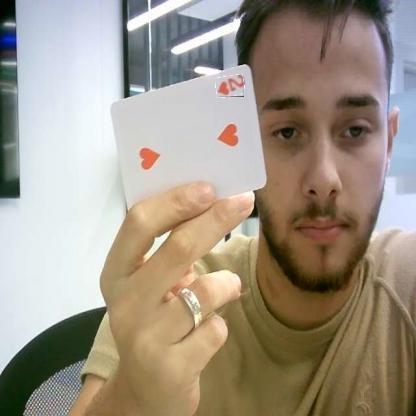2H: (216, 75, 245, 97)
